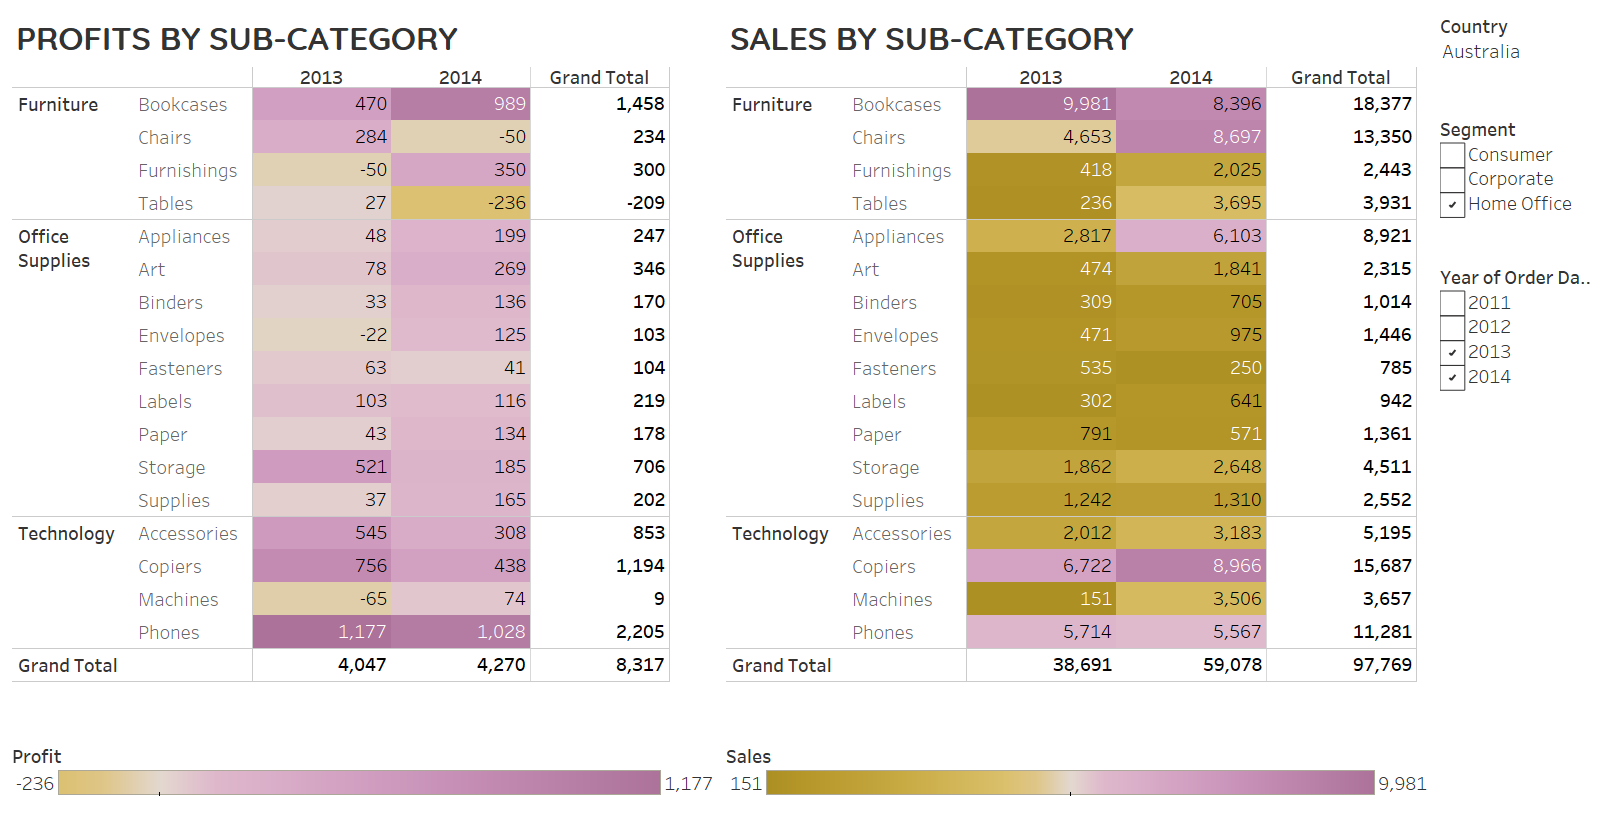

What the dashboard file says about the page in this screenshot:
{"tool":"tableau","page":{"name":"Dashboard 3","canvas":[1000,1000],"units":"permille","ordinal":2},"visuals":[{"type":"worksheet","box":[0,0,1000,1000]},{"type":"worksheet","param":"horz","box":[5,9.8,990,980.4]},{"type":"worksheet","param":"horz","box":[5,9.8,895.3,980.4]},{"type":"worksheet","param":"horz","box":[5,9.8,895.3,980.4]},{"type":"worksheet","param":"horz","box":[5,9.8,895.3,980.4]},{"type":"worksheet","box":[5,9.8,895.3,980.4]},{"type":"worksheet","title":"Sales by Sub-Category","mark":"Square","rows":["Sub-Category"],"cols":["Order Date"],"box":[5,9.8,459.5,863.1]},{"type":"worksheet","title":"Profits by Sub-Category","mark":"Square","rows":["Sub-Category"],"cols":["Order Date"],"box":[464.4,9.8,435.8,863.1]},{"type":"worksheet","param":"vert","box":[900.2,9.8,94.8,980.4]},{"type":"worksheet","title":"Profits by Sub-Category","mark":"Square","rows":["Sub-Category"],"cols":["Order Date"],"param":"[federated.042z3qs0qvl95216848ib0g7yf3s].[none:Country:nk]","box":[900.2,9.8,94.8,125.9]},{"type":"worksheet","title":"Sales by Sub-Category","mark":"Square","rows":["Sub-Category"],"cols":["Order Date"],"param":"[federated.042z3qs0qvl95216848ib0g7yf3s].[none:Segment:nk]","box":[900.2,135.7,94.8,125.9]},{"type":"worksheet","title":"Profits by Sub-Category","mark":"Square","rows":["Sub-Category"],"cols":["Order Date"],"param":"[federated.042z3qs0qvl95216848ib0g7yf3s].[yr:Order Date:ok]","box":[900.2,261.6,94.8,125.9]},{"type":"worksheet","title":"Sales by Sub-Category","mark":"Square","rows":["Sub-Category"],"cols":["Order Date"],"param":"[federated.042z3qs0qvl95216848ib0g7yf3s].[sum:Sales:qk]","box":[5,872.9,466.3,117.4]},{"type":"worksheet","title":"Profits by Sub-Category","mark":"Square","rows":["Sub-Category"],"cols":["Order Date"],"param":"[federated.042z3qs0qvl95216848ib0g7yf3s].[sum:Profit:qk]","box":[471.3,872.9,428.9,117.4]}]}

Visuals, with their boxes on the dashboard's canvas, which has no fixed pixel size, in thousandths of its width and height (x1, y1, x2, y2). These are canvas units, not pixel positions in the 1604x818 screenshot, which may show the page scaled, cropped or inside an application window:
worksheet: bbox(0, 0, 1000, 1000)
worksheet: bbox(5, 10, 995, 990)
worksheet: bbox(5, 10, 900, 990)
worksheet: bbox(5, 10, 900, 990)
worksheet: bbox(5, 10, 900, 990)
worksheet: bbox(5, 10, 900, 990)
"Sales by Sub-Category" worksheet (Square marks): bbox(5, 10, 464, 873)
"Profits by Sub-Category" worksheet (Square marks): bbox(464, 10, 900, 873)
worksheet: bbox(900, 10, 995, 990)
"Profits by Sub-Category" worksheet (Square marks): bbox(900, 10, 995, 136)
"Sales by Sub-Category" worksheet (Square marks): bbox(900, 136, 995, 262)
"Profits by Sub-Category" worksheet (Square marks): bbox(900, 262, 995, 388)
"Sales by Sub-Category" worksheet (Square marks): bbox(5, 873, 471, 990)
"Profits by Sub-Category" worksheet (Square marks): bbox(471, 873, 900, 990)
